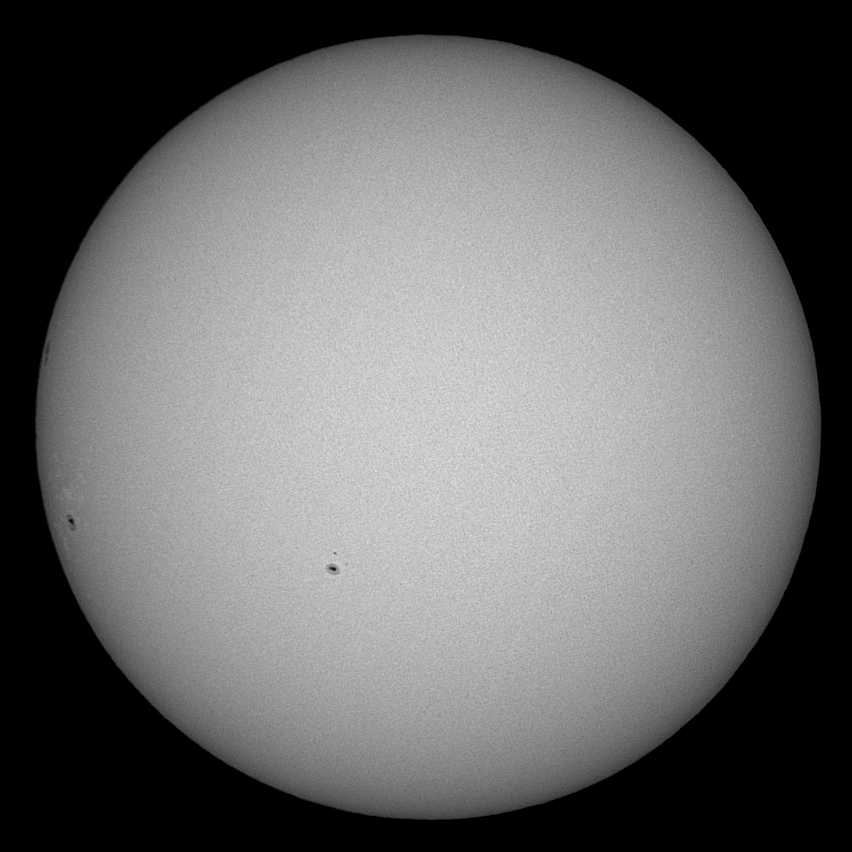sunspot: (322, 550, 343, 576), (64, 510, 78, 529)
